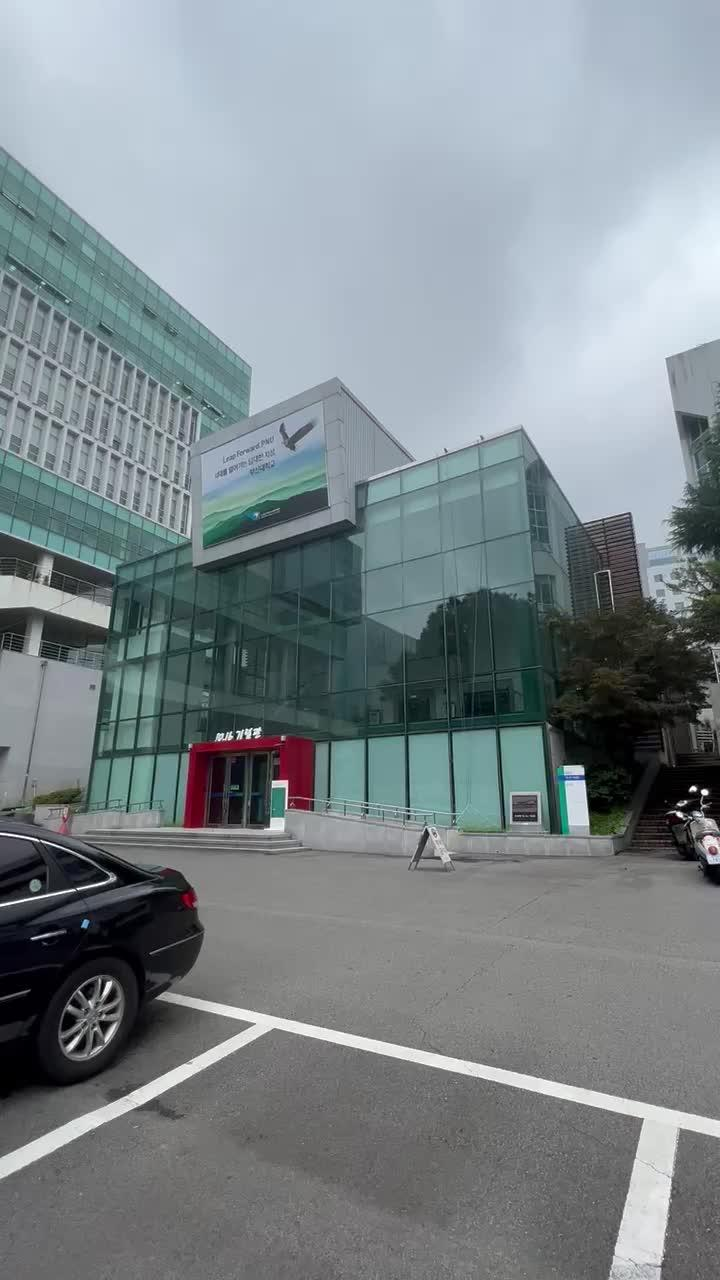building: (126, 378, 558, 836)
